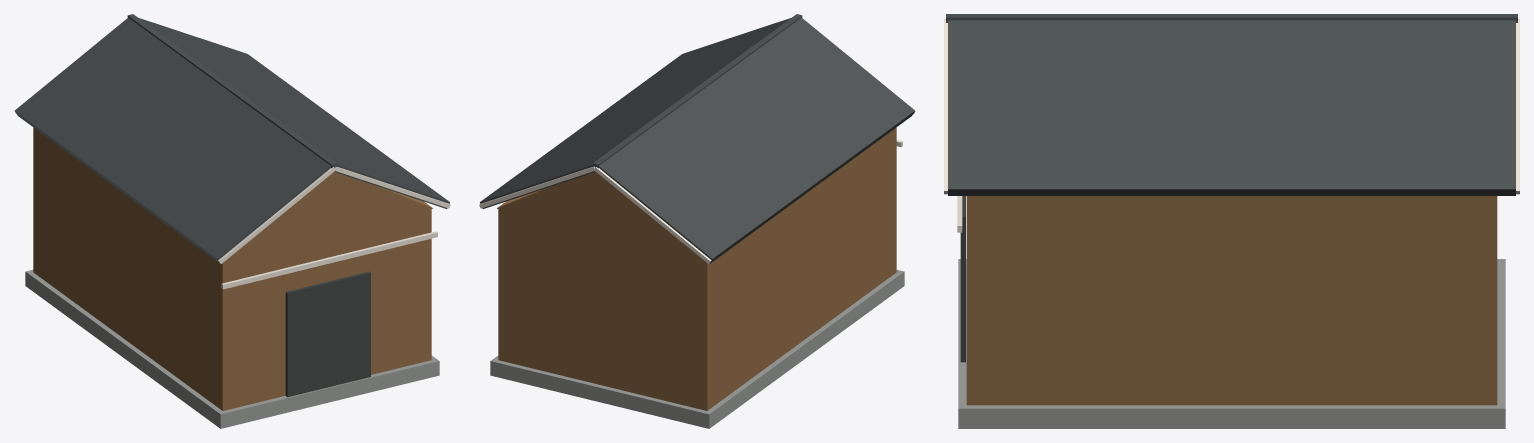
File: norway-barn_lod0.glb
3 renders of one model, left to right at view 1: azimuth 30°, elevation 25°; view 2: azimuth 150°, elevation 25°; view 3: azimuth 270°, elevation 25°, orthographic. The views are drawn at different scales.
Parts seen in each view (by area): view 1: RF_Barn_Walls, RF_Barn_RoofA, RF_Barn_RoofB, RF_Barn_Door, RF_Barn_Foundation, RF_Barn_Gables, RF_Barn_RidgeCap, RF_Barn_Trim, RF_Barn_VergeLeftFront, RF_Barn_VergeRightFront; view 2: RF_Barn_Walls, RF_Barn_RoofA, RF_Barn_RoofB, RF_Barn_Foundation, RF_Barn_Gables, RF_Barn_RidgeCap, RF_Barn_VergeLeftRear, RF_Barn_VergeRightRear; view 3: RF_Barn_Walls, RF_Barn_RoofB, RF_Barn_Foundation, RF_Barn_RidgeCap, RF_Barn_Door, RF_Barn_VergeRightRear, RF_Barn_VergeRightFront.
Boxes of the visible parts, x1,y1,x2,y2 form: RF_Barn_Walls: (33, 127, 431, 410); RF_Barn_RoofA: (15, 17, 330, 264); RF_Barn_RoofB: (139, 18, 449, 208); RF_Barn_Door: (285, 271, 370, 397); RF_Barn_Foundation: (25, 269, 439, 428); RF_Barn_Gables: (228, 172, 432, 258); RF_Barn_RidgeCap: (127, 14, 337, 168); RF_Barn_Trim: (221, 231, 437, 289); RF_Barn_VergeLeftFront: (218, 167, 335, 263); RF_Barn_VergeRightFront: (335, 166, 450, 208); RF_Barn_Walls: (498, 127, 896, 410); RF_Barn_RoofA: (599, 17, 914, 264); RF_Barn_RoofB: (480, 18, 790, 208); RF_Barn_Foundation: (490, 269, 904, 428); RF_Barn_Gables: (497, 172, 701, 258); RF_Barn_RidgeCap: (592, 14, 802, 168); RF_Barn_VergeLeftRear: (594, 167, 711, 263); RF_Barn_VergeRightRear: (479, 166, 594, 208); RF_Barn_Walls: (966, 196, 1497, 405); RF_Barn_RoofB: (948, 20, 1515, 195); RF_Barn_Foundation: (958, 259, 1505, 428); RF_Barn_RidgeCap: (946, 14, 1517, 22); RF_Barn_Door: (960, 196, 965, 362); RF_Barn_VergeRightRear: (1515, 20, 1519, 194); RF_Barn_VergeRightFront: (944, 20, 947, 194).
Bounding box in the file's own units: 11.7 × 11.6 × 17.9.
